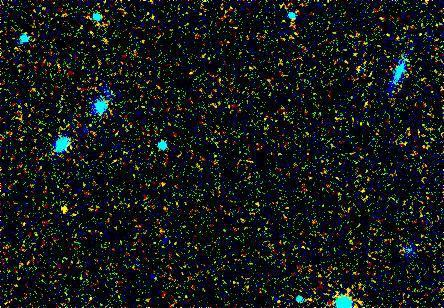star: (50, 195, 80, 225)
